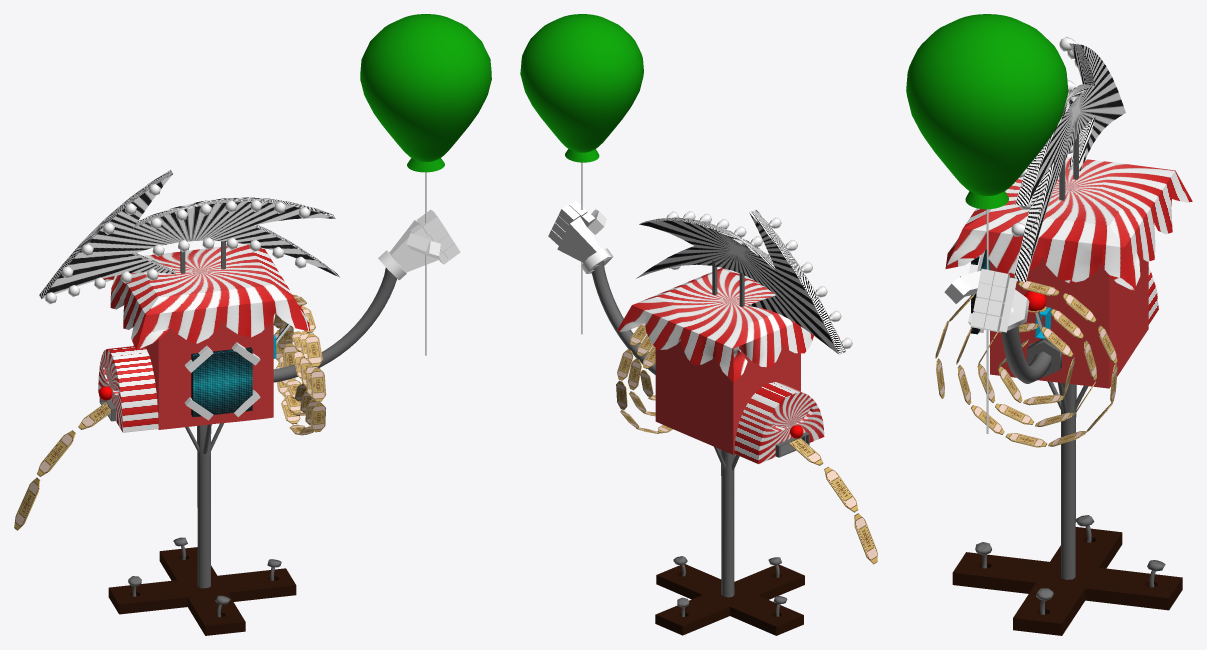
Rendered from Tikets.fbx.
3 renders of one model, left to right at view 1: azimuth 30°, elevation 25°; view 2: azimuth 150°, elevation 25°; view 3: azimuth 270°, elevation 25°, orthographic. The views are drawn at different scales.
Parts seen in each view (by area): view 1: Box004; view 2: Box004; view 3: Box004.
Boxes of the visible parts, x1,y1,x2,y2 form: Box004: (14,14,491,635); Box004: (520,14,877,635); Box004: (906,14,1192,635).
Bounding box in the file's own units: 50.22 × 63.41 × 24.2.
Materials: 13 (4 with a texture image).
